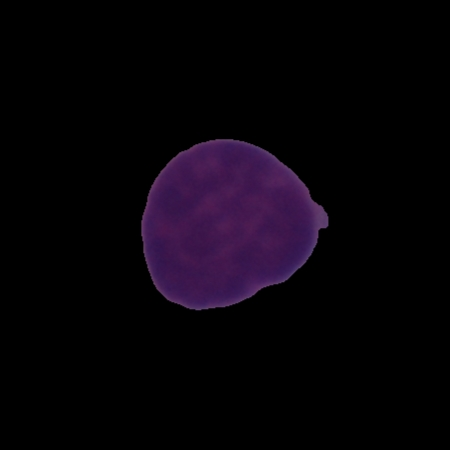ALL: (137, 133, 331, 313)
